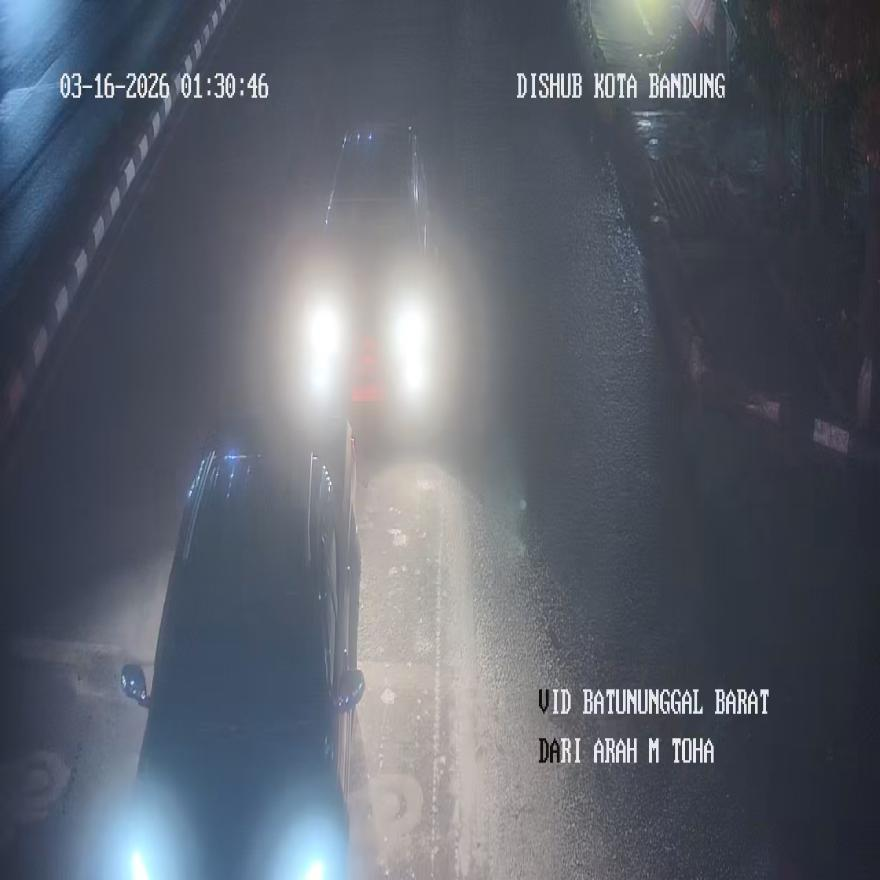Motor: (113, 417, 364, 879), (294, 123, 463, 433)
